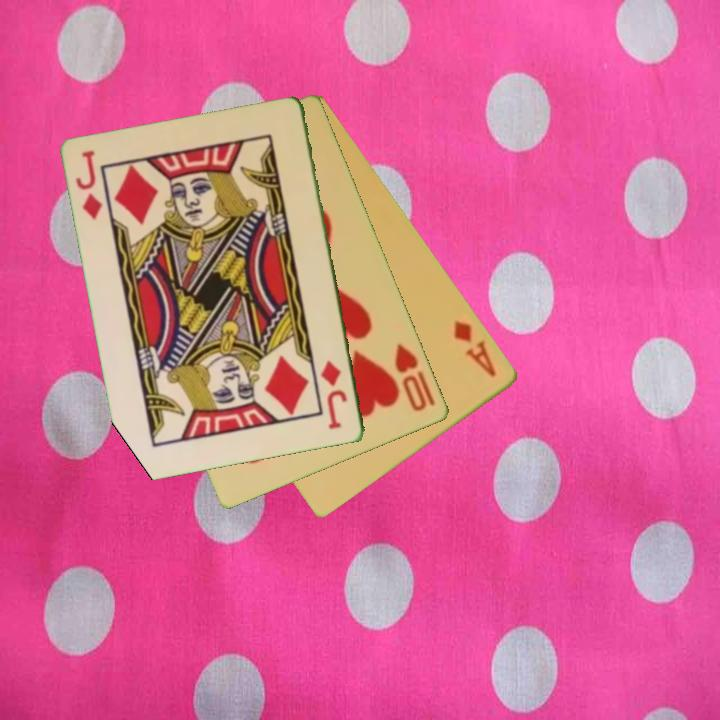10h: (391, 340, 430, 415)
Ad: (450, 317, 500, 380)
Jd: (72, 147, 106, 224), (317, 357, 351, 433)
